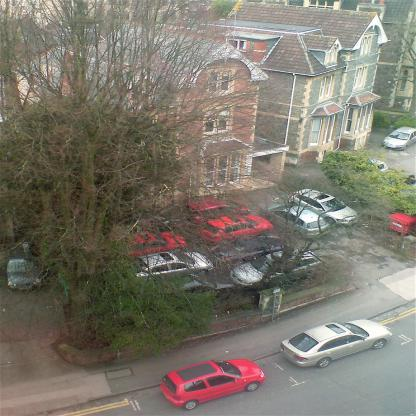Car: (280, 320, 394, 370), (160, 358, 266, 410), (192, 214, 276, 249), (105, 229, 188, 262), (260, 203, 331, 241), (291, 189, 359, 227), (127, 248, 212, 278), (202, 235, 286, 264), (172, 196, 252, 226), (6, 241, 46, 290), (380, 126, 416, 151)
